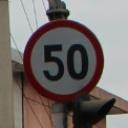speed_limit_50: (23, 20, 105, 100)
